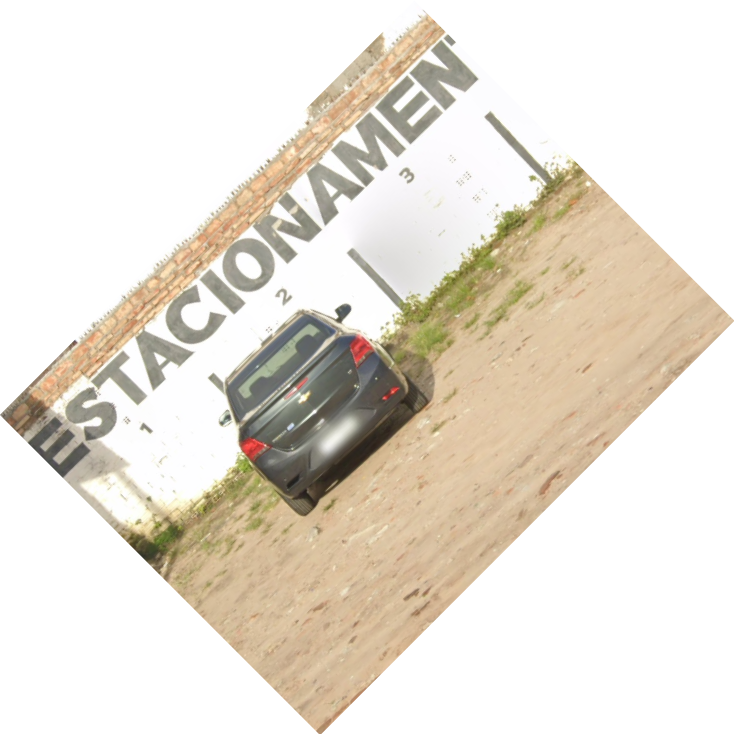car: (216, 296, 436, 521)
